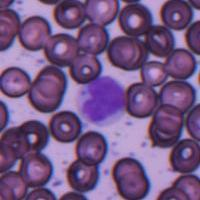M: (77, 74, 126, 126)
